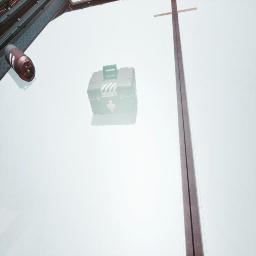FirstAidBox ,: (87, 64, 136, 115)
NitrogenTank ,: (4, 44, 35, 82)
